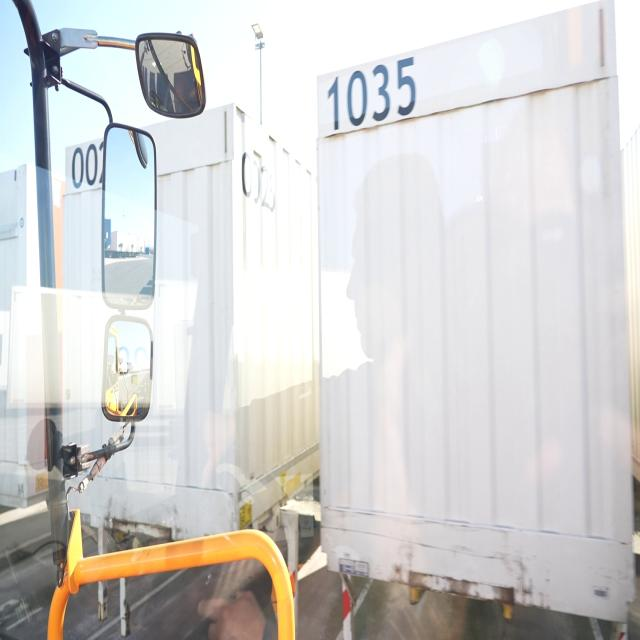Code: (325, 53, 425, 137)
